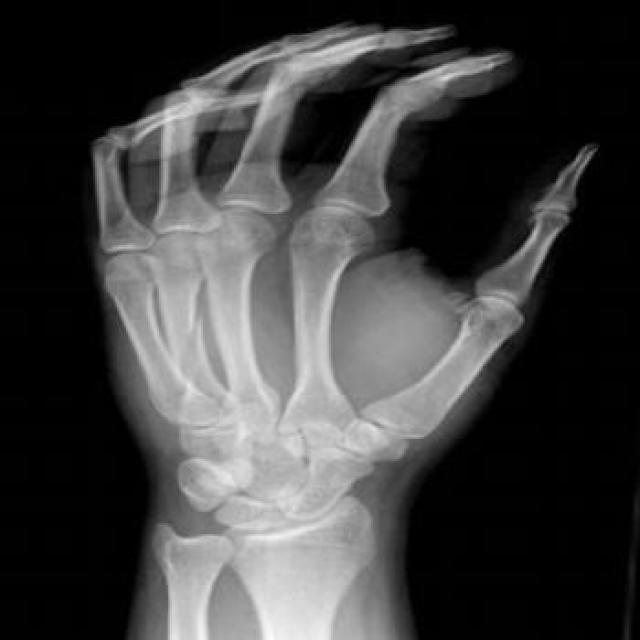Fracture: (178, 309, 215, 340)
